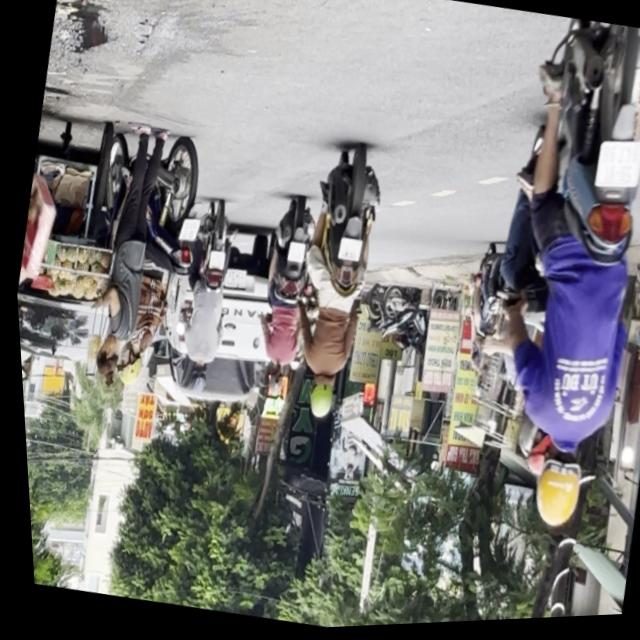helmet: (519, 442, 587, 539), (299, 378, 334, 425), (110, 344, 142, 389), (180, 363, 205, 400), (258, 366, 282, 401)
licenseplate: (434, 12, 640, 547), (268, 141, 401, 431), (156, 198, 247, 403), (238, 195, 327, 403), (443, 239, 527, 408)
nohelmet: (592, 139, 640, 195), (332, 238, 360, 265), (174, 218, 198, 244), (282, 242, 304, 266), (203, 251, 223, 272)
